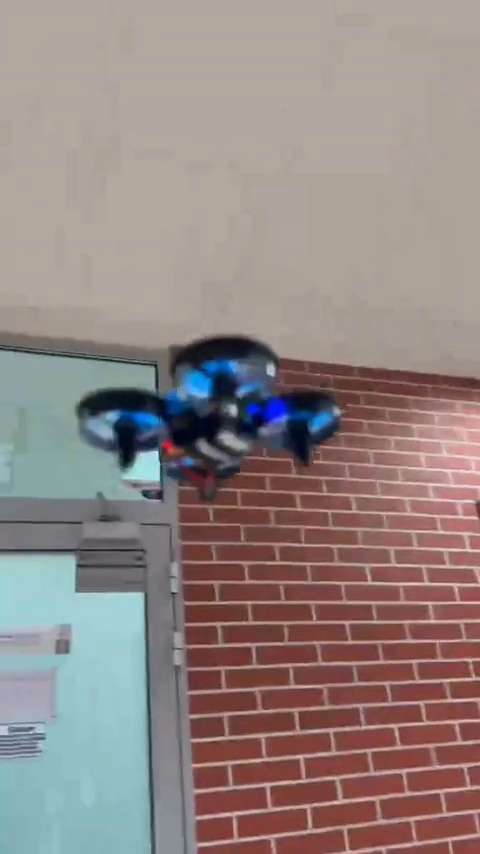drone: (72, 340, 343, 497)
